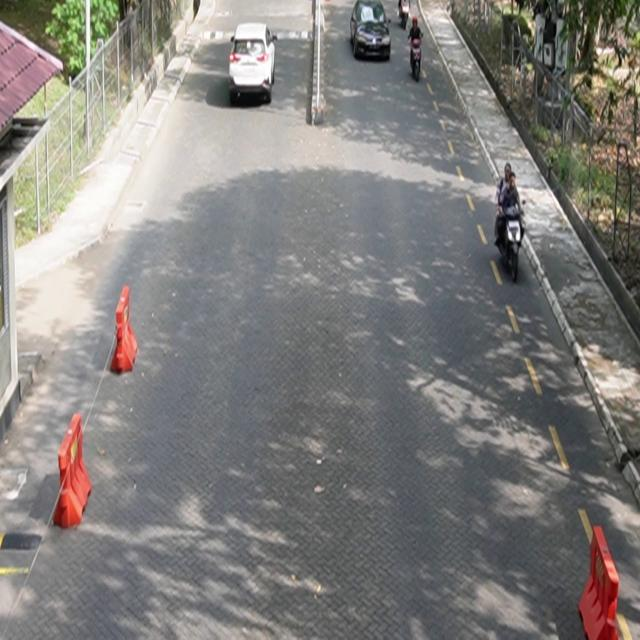car: (229, 23, 278, 106), (350, 1, 392, 61)
